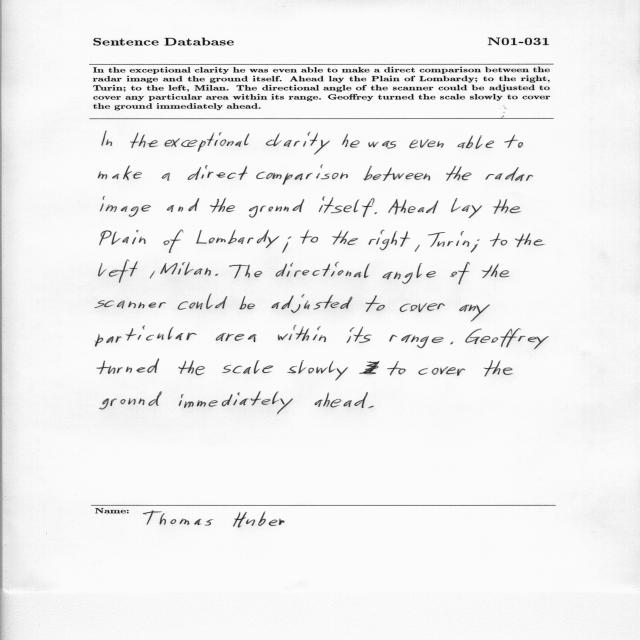word: (179, 392, 293, 415), (95, 326, 196, 347), (256, 165, 348, 185), (465, 328, 549, 349), (165, 132, 250, 152), (272, 294, 353, 313), (276, 262, 370, 278), (196, 230, 279, 248), (266, 132, 330, 155), (288, 360, 349, 380), (319, 197, 375, 218), (382, 263, 436, 284), (100, 392, 162, 410), (100, 196, 151, 217), (363, 166, 430, 181), (249, 199, 304, 217), (97, 359, 159, 374), (98, 260, 138, 283), (187, 165, 248, 180), (314, 392, 368, 408), (368, 230, 410, 250), (278, 325, 326, 342), (178, 294, 227, 310), (389, 334, 444, 348), (388, 199, 438, 214), (160, 262, 211, 276), (222, 360, 273, 374), (100, 230, 146, 245), (485, 167, 533, 181), (98, 166, 142, 181), (359, 361, 406, 375), (428, 231, 469, 247), (95, 300, 166, 309), (451, 198, 482, 218), (459, 304, 490, 322), (458, 135, 494, 149), (484, 360, 513, 377), (418, 366, 465, 376), (229, 265, 262, 279), (164, 230, 184, 253), (450, 262, 470, 285), (167, 198, 199, 212), (346, 326, 372, 343), (130, 133, 158, 148), (493, 199, 521, 214), (515, 233, 545, 247), (400, 303, 445, 312), (178, 361, 205, 376), (482, 264, 510, 278), (446, 166, 472, 181), (332, 230, 358, 245), (210, 198, 235, 213), (216, 333, 257, 342), (365, 295, 385, 312), (409, 139, 444, 148), (300, 230, 318, 244), (504, 135, 523, 148), (490, 233, 507, 247), (342, 134, 360, 147), (368, 141, 396, 149), (239, 296, 255, 309), (282, 236, 291, 253), (102, 131, 112, 146), (471, 240, 480, 253), (162, 173, 170, 181), (150, 271, 155, 279), (415, 245, 420, 252), (368, 406, 374, 408), (215, 273, 218, 276), (450, 342, 453, 345), (374, 212, 377, 214)
